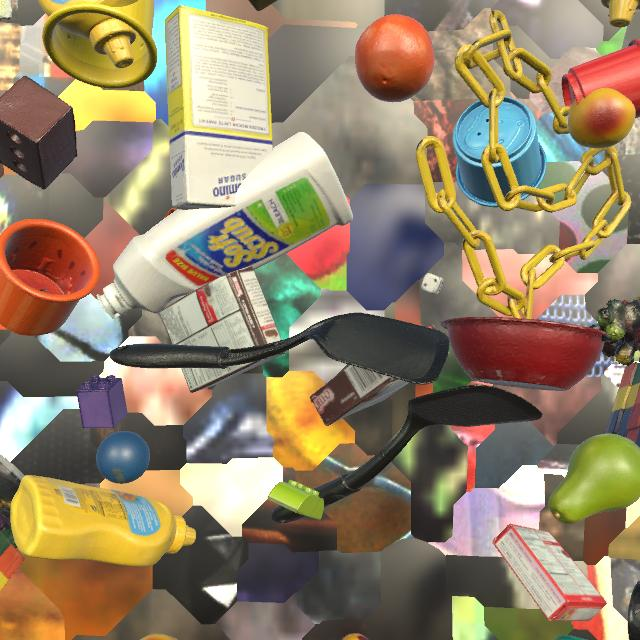ycb_004_sugar_box: (164, 5, 273, 210), (622, 8, 640, 49)
ycb_006_mustard_bottle: (10, 475, 196, 567), (38, 0, 138, 68), (601, 0, 640, 27)
ycb_008_pudding_box: (159, 266, 287, 393), (310, 325, 450, 426)
ycb_009_gelatin_box: (492, 523, 607, 621)
ycb_015_peach: (568, 88, 636, 149), (140, 633, 178, 640)
ycb_016_pear: (548, 434, 640, 524)
ycb_017_orange: (355, 14, 435, 102)
